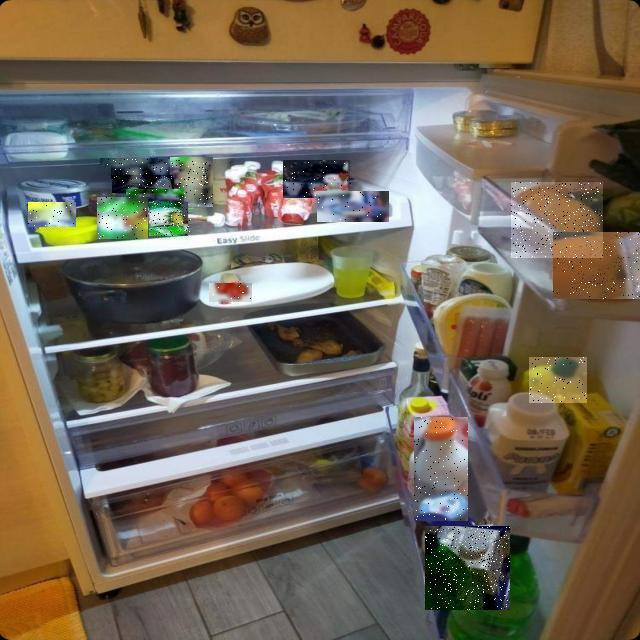Eggs: (511, 182, 603, 258)
Lemon: (553, 232, 640, 299), (529, 357, 587, 403)
Milk: (425, 526, 510, 610), (414, 417, 468, 521)
Tomatoes: (209, 284, 252, 304)
Yoghurt: (284, 161, 352, 199), (317, 191, 389, 222), (170, 157, 213, 207), (97, 197, 148, 239), (150, 202, 192, 236), (111, 159, 173, 179), (28, 202, 76, 227), (112, 175, 174, 193), (126, 189, 184, 207), (100, 158, 158, 165)
